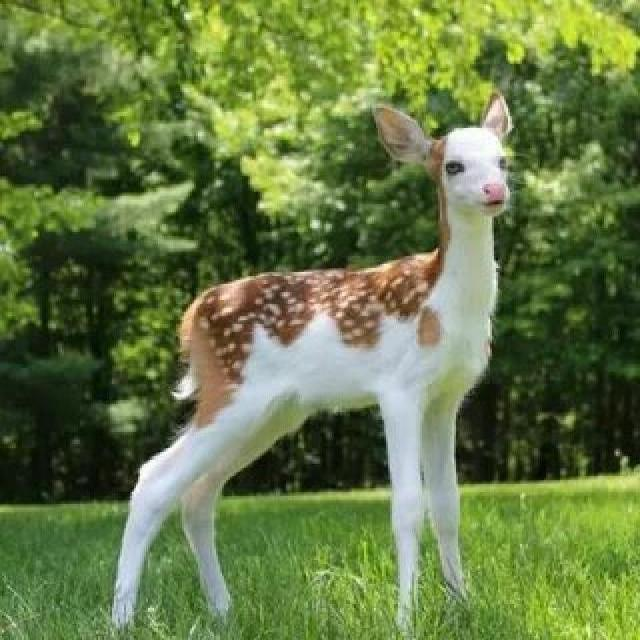deer: (141, 34, 592, 626)
